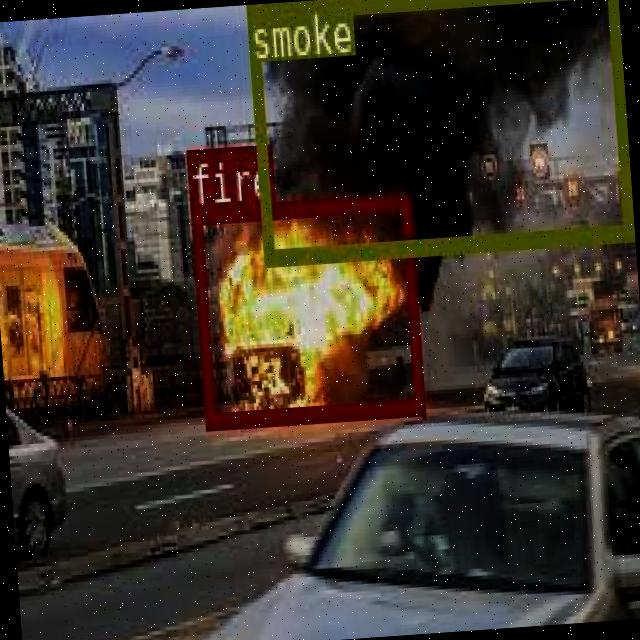fire: (190, 190, 422, 425)
smoke: (246, 0, 631, 261)
